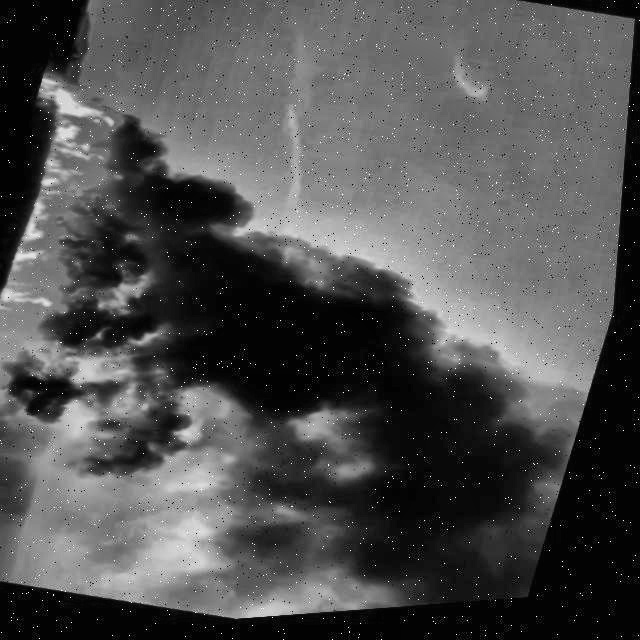Smoke: (0, 83, 633, 590)
